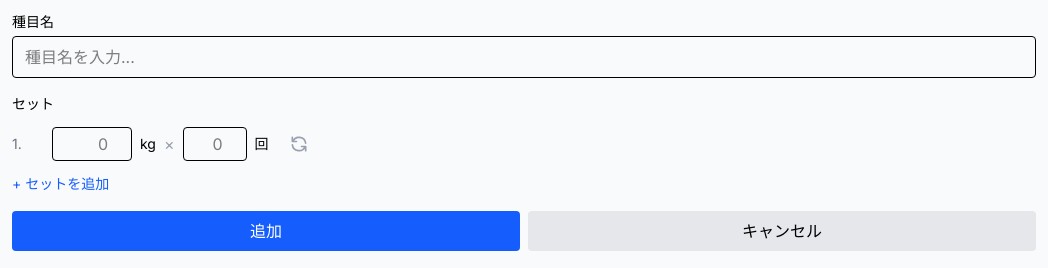
ExerciseForm › 自重トレーニング › 自重トレーニングは重量入力が表示されない
This screenshot has width=1048, height=268.
Step 1. Type "チンニング" into the field with placeholder "種目名を入力..." → x=524, y=57, box [12,36,1036,78]
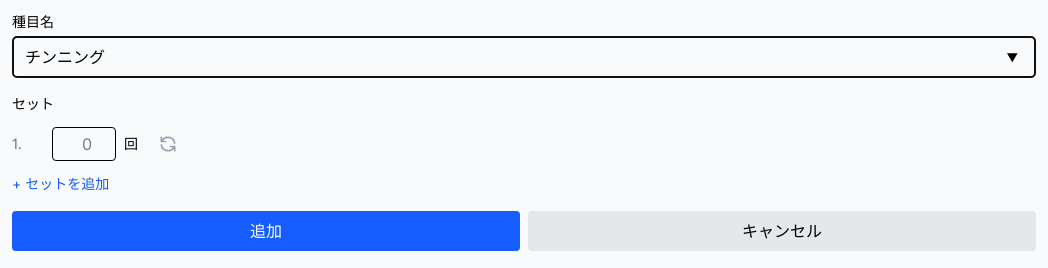
Check: the number of number fields is 1, box [52,127,116,161]
Check: the text "kg" is gone
